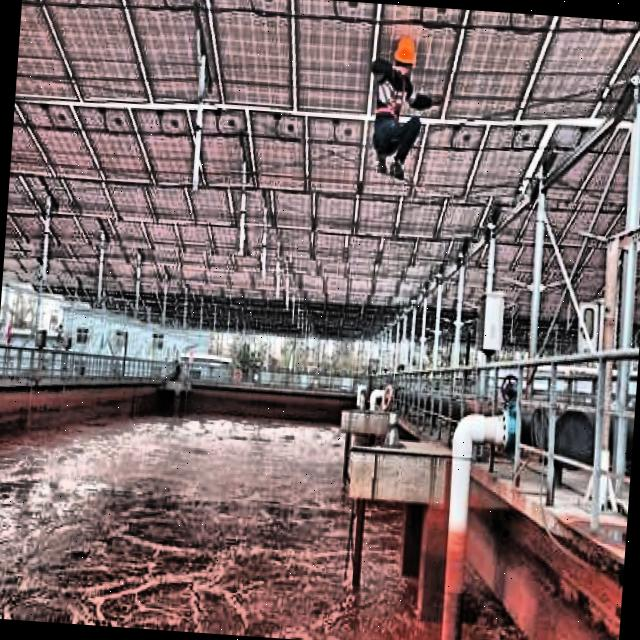helmet: (393, 26, 420, 87)
